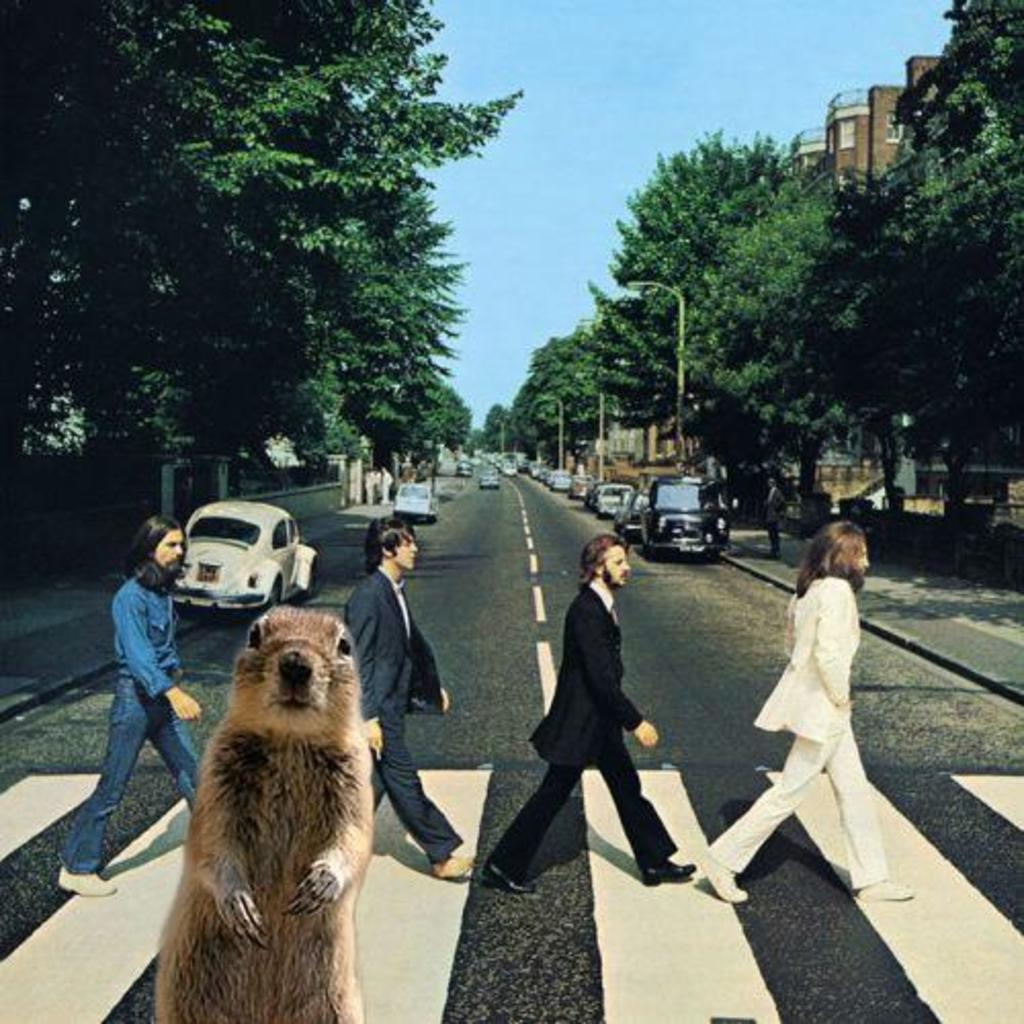Car: (479, 444, 741, 559), (172, 499, 315, 608), (389, 483, 440, 520), (454, 462, 468, 477)
